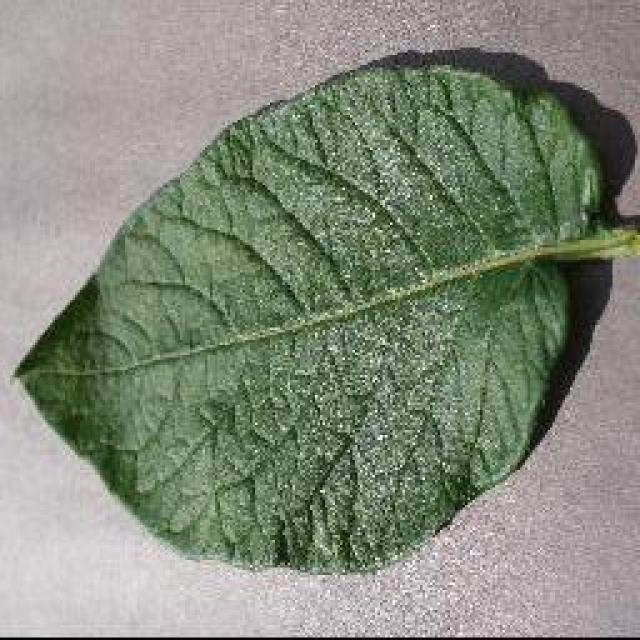Potato___healthy: (5, 62, 638, 578)
